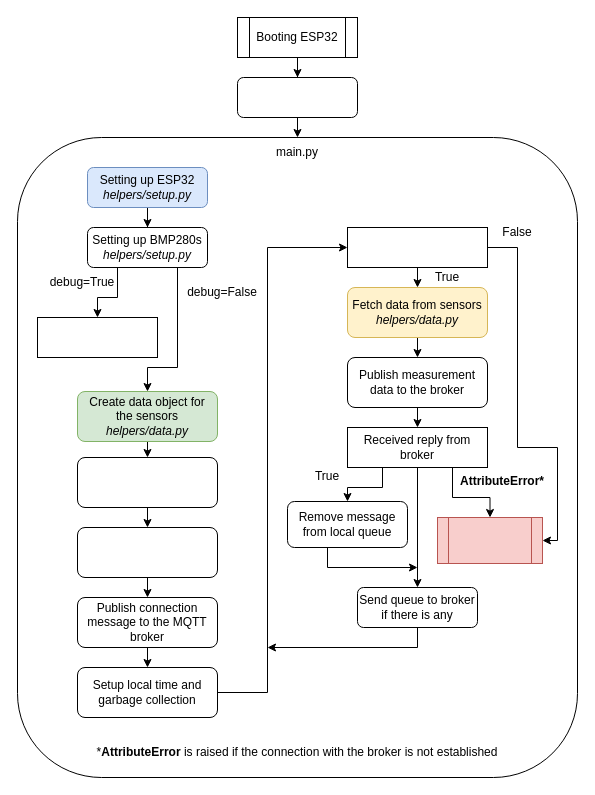
The diagram is 595 pixels wide and 795 high, and some of its shapes have lost their labels. The box of each missing label's shape, as (x1, y1, x2, y2) in pixels:
Booting settings boot.py: (236, 76, 358, 118)
Initialise MQTT object mqtt/connector.py: (76, 456, 218, 508)
Print Debug Settings helpers/setup.py: (36, 316, 158, 358)
Reset ESP32: (436, 516, 542, 564)
Set MQTT callback status: (76, 526, 218, 578)
while the mqtt connection is 'alive': (346, 226, 488, 268)
